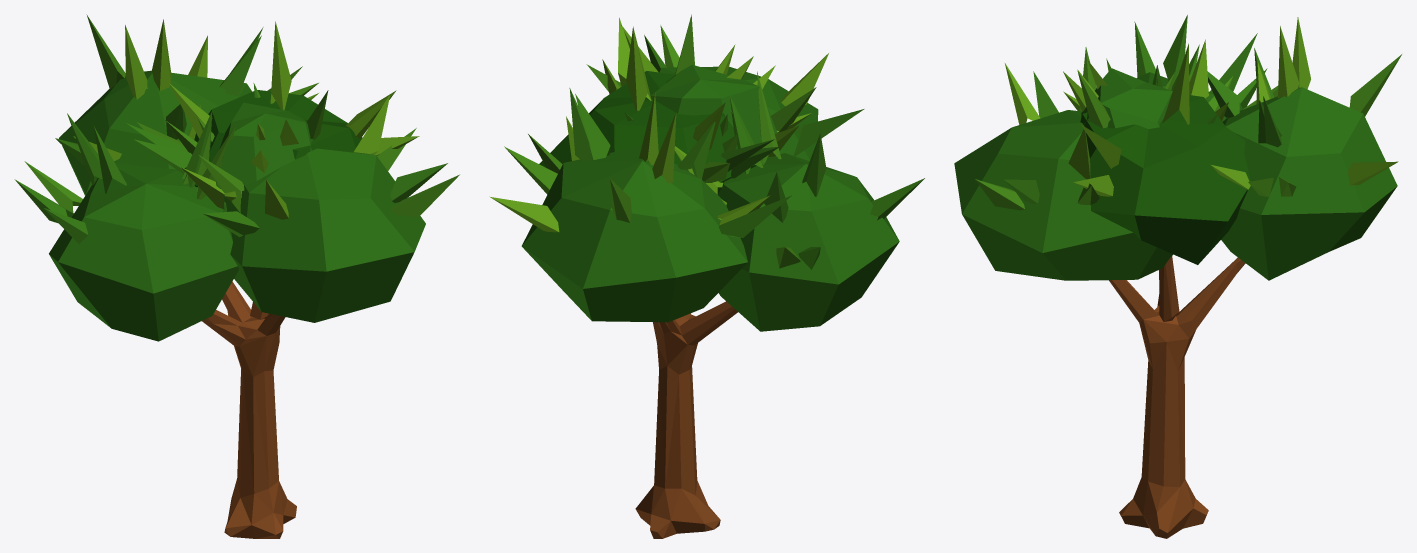
The model's file is broadleaf_a.gltf.
3 renders of one model, left to right at view 1: azimuth 30°, elevation 25°; view 2: azimuth 150°, elevation 25°; view 3: azimuth 270°, elevation 25°, orthographic. The views are drawn at different scales.
Visible parts, largest first — view 1: broadleaf_a; view 2: broadleaf_a; view 3: broadleaf_a.
Boxes of the visible parts, <box> form: broadleaf_a: <box>14,14,459,538</box>; broadleaf_a: <box>489,14,924,538</box>; broadleaf_a: <box>954,15,1401,538</box>.
Bounding box in the file's own units: 2.35 × 3.13 × 2.56.
